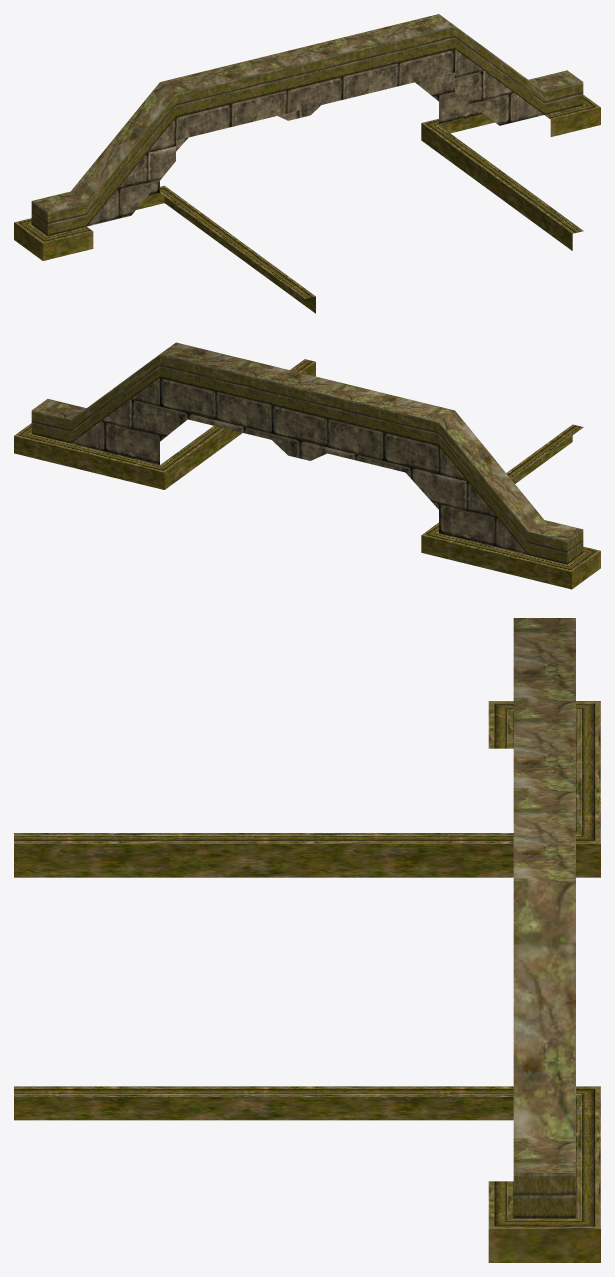
File: OVERHILL_A_01_OBJECT171.fbx
The picture shows the model from 3 angles, top to bottom: view 1: azimuth 30°, elevation 25°; view 2: azimuth 150°, elevation 25°; view 3: azimuth 270°, elevation 25°; orthographic projection. The views are drawn at different scales.
Visible parts, largest first — view 1: OVERHILL_A_01_OBJECT171; view 2: OVERHILL_A_01_OBJECT171; view 3: OVERHILL_A_01_OBJECT171.
Boxes of the visible parts, x1,y1,x2,y2 form: OVERHILL_A_01_OBJECT171: (14, 14, 600, 313); OVERHILL_A_01_OBJECT171: (14, 342, 600, 589); OVERHILL_A_01_OBJECT171: (14, 618, 600, 1262).
Bounding box in the file's own units: 100000 × 22000 × 47000.
Materials: 5 (5 with a texture image).
